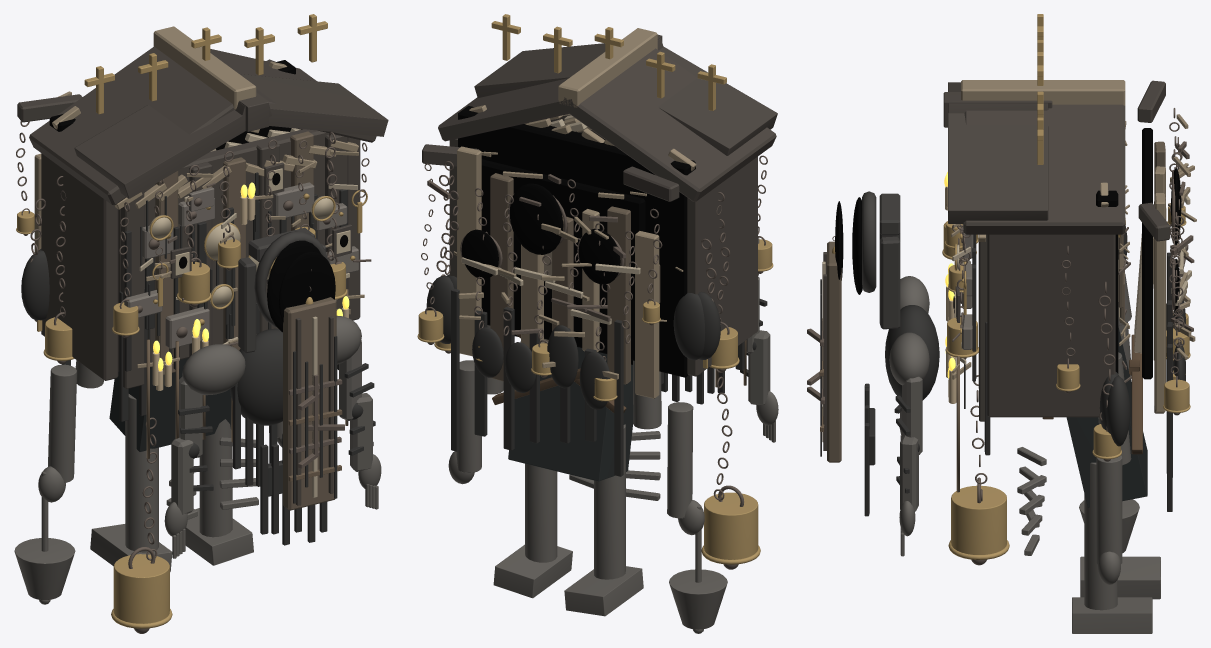
Rendered from penance_carrier_end_goal_v3.glb.
The picture shows the model from 3 angles, left to right: view 1: azimuth 30°, elevation 25°; view 2: azimuth 150°, elevation 25°; view 3: azimuth 270°, elevation 25°; orthographic projection. The views are drawn at different scales.
Parts seen in each view (by area): view 1: PC_V3_shrine_left_side_depth, PC_V3_roof_left_heavy_slab, PC_ShrineRoof_left_slanted_plank, PC_V3_CLEAR_HEAD_long_vertical_wooden_mask, PC_ShrineRoof_right_slanted_plank, PC_V3_shrine_front_plank_wall, PC_LeftLeg_thin_wrapped, PC_HunchedTorso_wet_cloth_mass, PC_V3_CLEAR_HEAD_forward_cloth_chest_mass, PC_V3_large_dragging_hand_bell_body, PC_V3_roof_ridge_splintered_beam, PC_RightLeg_thin_wrapped (+52 smaller); view 2: PC_V3_shrine_back_wall_dark_gap, PC_V3_roof_left_heavy_slab, PC_V3_shrine_left_side_depth, PC_HunchedTorso_wet_cloth_mass, PC_V3_BACK_rotten_black_rear_cavity, PC_ShrineRoof_left_slanted_plank, PC_V3_roof_right_heavy_slab, PC_V3_BACK_sagging_rotten_plank_06, PC_V3_BACK_sagging_rotten_plank_00, PC_ShrineRoof_right_slanted_plank, PC_LeftLeg_thin_wrapped, PC_V3_large_dragging_hand_bell_body (+37 smaller); view 3: PC_V3_shrine_right_side_depth, PC_V3_roof_right_heavy_slab, PC_ShrineRoof_right_slanted_plank, PC_V3_roof_ridge_splintered_beam, PC_V3_large_dragging_hand_bell_body, PC_V3_CLEAR_HEAD_long_vertical_wooden_mask, PC_HunchedTorso_wet_cloth_mass, PC_RightForearm_long, PC_RightFoot_wrapped_blockout, PC_V3_BACK_rotten_black_rear_cavity, PC_RightLeg_thin_wrapped, PC_V3_BACK_sagging_rotten_plank_06 (+30 smaller).
Boxes of the visible parts, box(x1,y1,x2,y2) form: PC_V3_shrine_left_side_depth: box(41, 153, 118, 380); PC_V3_roof_left_heavy_slab: box(29, 46, 234, 205); PC_ShrineRoof_left_slanted_plank: box(74, 105, 271, 198); PC_V3_CLEAR_HEAD_long_vertical_wooden_mask: box(283, 297, 336, 510); PC_ShrineRoof_right_slanted_plank: box(234, 74, 388, 136); PC_V3_shrine_front_plank_wall: box(118, 129, 329, 371); PC_LeftLeg_thin_wrapped: box(125, 394, 158, 552); PC_HunchedTorso_wet_cloth_mass: box(109, 358, 231, 451); PC_V3_CLEAR_HEAD_forward_cloth_chest_mass: box(230, 328, 282, 425); PC_V3_large_dragging_hand_bell_body: box(113, 554, 169, 623); PC_V3_roof_ridge_splintered_beam: box(153, 26, 256, 109); PC_RightLeg_thin_wrapped: box(199, 419, 232, 537); PC_V3_shrine_back_wall_dark_gap: box(458, 106, 695, 377); PC_V3_roof_left_heavy_slab: box(560, 48, 776, 201); PC_V3_shrine_left_side_depth: box(687, 156, 757, 376); PC_HunchedTorso_wet_cloth_mass: box(508, 341, 633, 481); PC_V3_BACK_rotten_black_rear_cavity: box(481, 159, 645, 360); PC_ShrineRoof_left_slanted_plank: box(658, 46, 777, 155); PC_V3_roof_right_heavy_slab: box(438, 78, 575, 141); PC_V3_BACK_sagging_rotten_plank_06: box(457, 146, 481, 356); PC_V3_BACK_sagging_rotten_plank_00: box(635, 231, 659, 398); PC_ShrineRoof_right_slanted_plank: box(474, 38, 663, 97); PC_LeftLeg_thin_wrapped: box(594, 424, 625, 579); PC_V3_large_dragging_hand_bell_body: box(704, 492, 758, 559); PC_V3_shrine_right_side_depth: box(987, 234, 1115, 417); PC_V3_roof_right_heavy_slab: box(963, 104, 1125, 234); PC_ShrineRoof_right_slanted_plank: box(948, 113, 1048, 223); PC_V3_roof_ridge_splintered_beam: box(961, 80, 1125, 105); PC_V3_large_dragging_hand_bell_body: box(951, 485, 1006, 554); PC_V3_CLEAR_HEAD_long_vertical_wooden_mask: box(827, 241, 841, 462); PC_HunchedTorso_wet_cloth_mass: box(1066, 326, 1147, 507); PC_RightForearm_long: box(1096, 455, 1122, 564); PC_RightFoot_wrapped_blockout: box(1072, 597, 1152, 633); PC_V3_BACK_rotten_black_rear_cavity: box(1142, 128, 1152, 379); PC_RightLeg_thin_wrapped: box(1084, 462, 1117, 610); PC_V3_BACK_sagging_rotten_plank_06: box(1154, 193, 1165, 412).
Size of the model in its own units: 2.5 by 4.5 by 2.8.
